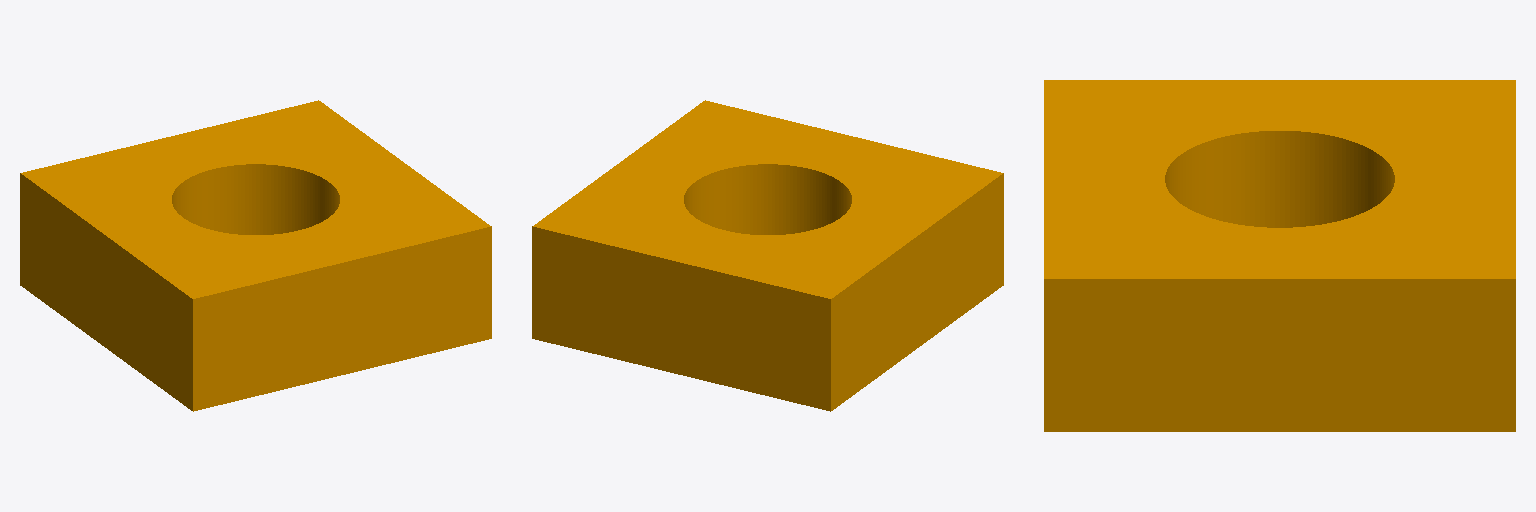
The robot description file, URDF, robot "factory_round_hole_12mm":
<?xml version="1.0"?>
<robot name="factory_round_hole_12mm">
    <link name="factory_round_hole_12mm">
        <visual>
            <geometry>
                <mesh filename="../mesh/factory_insertion/factory_round_hole_12mm_subdiv_3x.obj"/>
            </geometry>
        </visual>
        <collision>
            <geometry>
                <mesh filename="../mesh/factory_insertion/factory_round_hole_12mm_subdiv_3x.obj"/>
            </geometry>
            <sdf resolution="256"/>
        </collision>
    </link>
</robot>

--- Facts derived from the render (not from the file) ---
The picture shows the robot from 3 angles, left to right: view 1: azimuth 30°, elevation 25°; view 2: azimuth 150°, elevation 25°; view 3: azimuth 270°, elevation 25°; orthographic projection.
Model factory_round_hole_12mm with 1 links and 0 joints (none), rooted at factory_round_hole_12mm, posed all joints at 0.
Links seen in each view (by area): view 1: factory_round_hole_12mm; view 2: factory_round_hole_12mm; view 3: factory_round_hole_12mm.
Boxes of the visible links, box(x1,y1,x2,y2) form: factory_round_hole_12mm: box(20, 100, 491, 411); factory_round_hole_12mm: box(532, 100, 1003, 411); factory_round_hole_12mm: box(1044, 80, 1515, 431).
Size in the robot's own frame: 0.025 by 0.025 by 0.009 metres.
1 mesh visuals loaded from 1 distinct referenced files (1 OBJ).